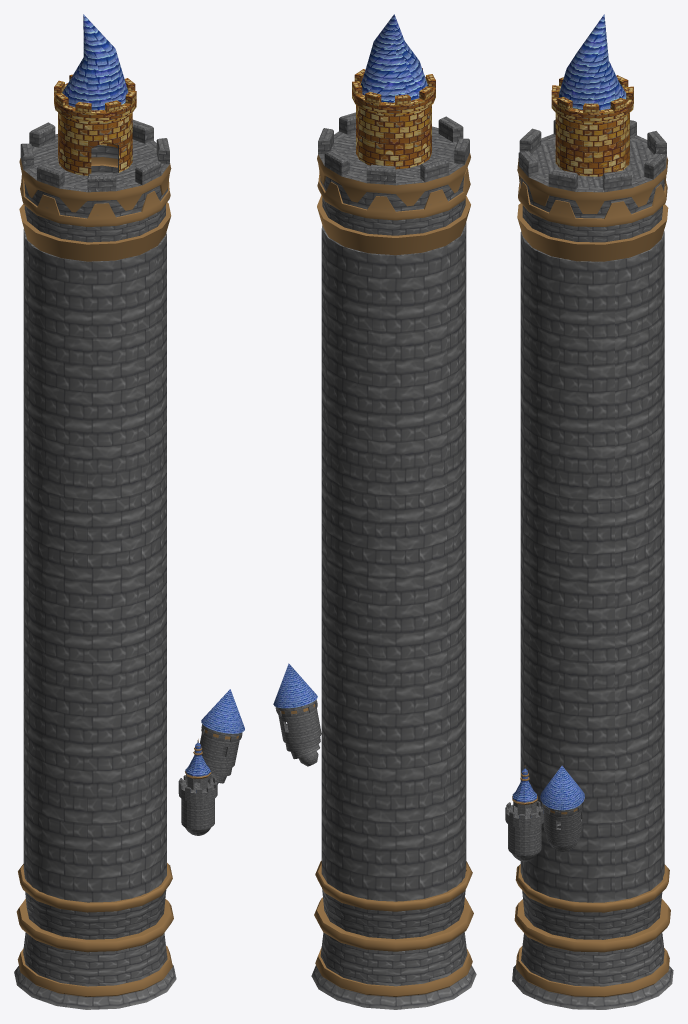
The model's file is SM_Climbing_tower.fbx.
The picture shows the model from 3 angles, left to right: view 1: azimuth 30°, elevation 25°; view 2: azimuth 150°, elevation 25°; view 3: azimuth 270°, elevation 25°; orthographic projection.
Visible parts, largest first — view 1: SM_Large_tower_middle, SM_Large_tower; view 2: SM_Large_tower_middle, SM_Large_tower, polySurface2; view 3: SM_Large_tower_middle, SM_Large_tower, polySurface2.
Part boxes in pixels (x1,y1,x2,y2): SM_Large_tower_middle: (23, 229, 166, 902); SM_Large_tower: (14, 14, 244, 1009); SM_Large_tower_middle: (321, 222, 466, 901); SM_Large_tower: (273, 14, 476, 1009); polySurface2: (315, 863, 469, 911); SM_Large_tower_middle: (520, 231, 664, 902); SM_Large_tower: (505, 14, 673, 1009); polySurface2: (518, 864, 669, 907).
Bounding box in the file's own units: 5456 × 24786 × 3938.
